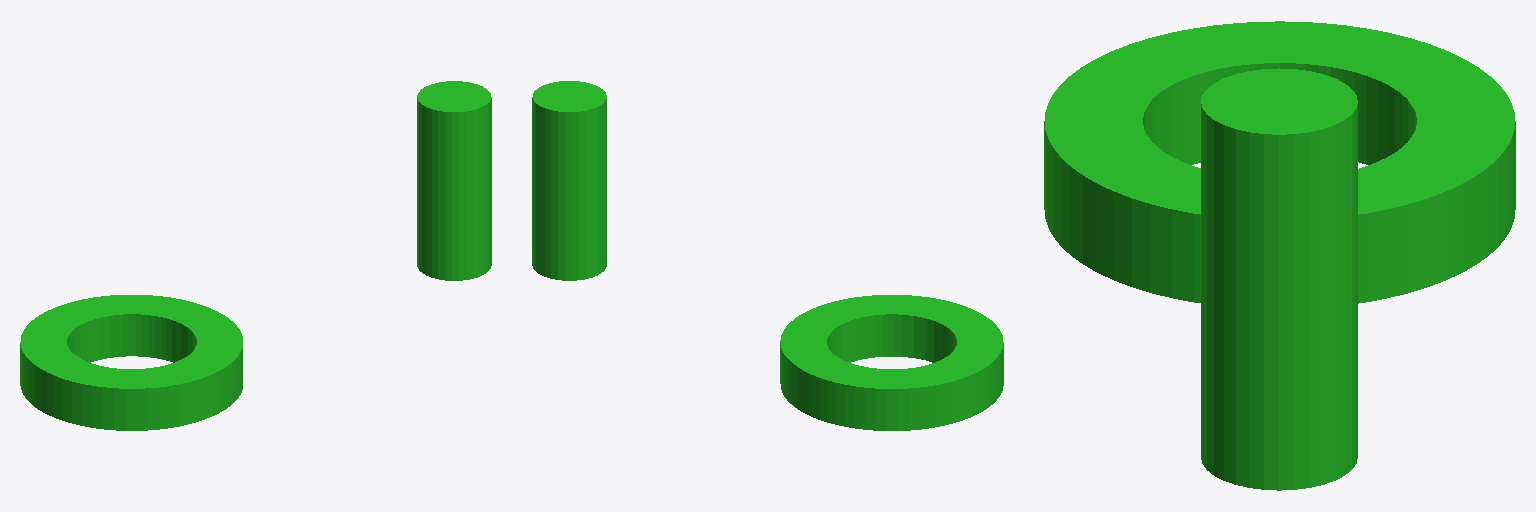
robot.urdf — disk0:
<?xml version="1.0" ?>
<robot name="disk0" xmlns:xacro="http://ros.org/wiki/xacro">
  <material name="green">
    <color rgba="0.2 0.8 0.2 1"/>
  </material>
  <link name="base_link">
    <visual>
      <origin rpy="0 0 0" xyz="0 0 0"/>
      <geometry>
        <mesh filename="package://tower_of_hanoi/disk0.stl" scale="0.1 0.1 0.1"/>
      </geometry>
      <material name="green"/>
    </visual>
    <collision>
      <origin rpy="0 0 0" xyz="0 0 0"/>
      <geometry>
        <mesh filename="package://tower_of_hanoi/disk0_col2.stl" scale="0.1 0.1 0.1"/>
      </geometry>
    </collision>
    <inertial>
      <!-- CENTER OF MASS -->
      <origin rpy="0 0 0" xyz="0 0 0"/>
      <mass value="0.01"/>
      <!--Thick-walled cylindrical tube with open ends inertia: I_x = I_y = 1/12*m(3*(r1^2+r2^2)+h^2), I_z = 0.5*m(r1^2+r2^2) -->
      <!-- r1 = 0.035, r2 = 0.06, h = 0.025 -->
      <inertia ixx="1.2583333333333335e-05" ixy="0" ixz="0" iyy="1.2583333333333335e-05" iyz="0" izz="2.4125000000000004e-05"/>
    </inertial>
  </link>
  <joint name="tip_joint" type="fixed">
    <!-- <origin rpy="0 0 0" xyz="0.07 0 0.06125"/> -->
    <origin rpy="0 0 0" xyz="0.2 0 0.06125"/>
    <parent link="base_link"/>
    <child link="tip"/>
  </joint>
  <link name="tip">
    <visual>
      <origin rpy="0 0 0" xyz="0 0 0"/>
      <geometry>
        <cylinder length="0.1" radius="0.02"/>
      </geometry>
      <material name="green"/>
    </visual>
    <collision>
      <origin rpy="0 0 0" xyz="0 0 0"/>
      <geometry>
        <cylinder length="0.1" radius="0.02"/>
      </geometry>
    </collision>
    <!-- dummy inertial params -->
    <inertial>
      <origin rpy="0 0 0" xyz="0 0 0"/>
      <mass value="1e-8"/>
      <inertia ixx="1e-12" ixy="0" ixz="0" iyy="1e-12" iyz="0" izz="1e-12"/>
    </inertial>
  </link>
</robot>

--- Facts derived from the render (not from the file) ---
3 views of the same robot in one strip: view 1: azimuth 30°, elevation 25°; view 2: azimuth 150°, elevation 25°; view 3: azimuth 270°, elevation 25° (orthographic).
Robot: disk0 — 2 links, 1 joints (1 fixed); root link base_link; default pose: every joint at zero.
Visible links, largest first — view 1: base_link, tip; view 2: base_link, tip; view 3: base_link, tip.
Boxes of the visible links, left/top/right/bottom form: base_link: left=20, top=295, right=242, bottom=430; tip: left=417, top=81, right=491, bottom=280; base_link: left=780, top=295, right=1003, bottom=430; tip: left=532, top=81, right=606, bottom=280; base_link: left=1044, top=21, right=1515, bottom=303; tip: left=1201, top=68, right=1357, bottom=490.
Size in the robot's own frame: 0.2801 by 0.12 by 0.1238 metres.
1 mesh visuals loaded from 1 distinct referenced files (1 binary STL).